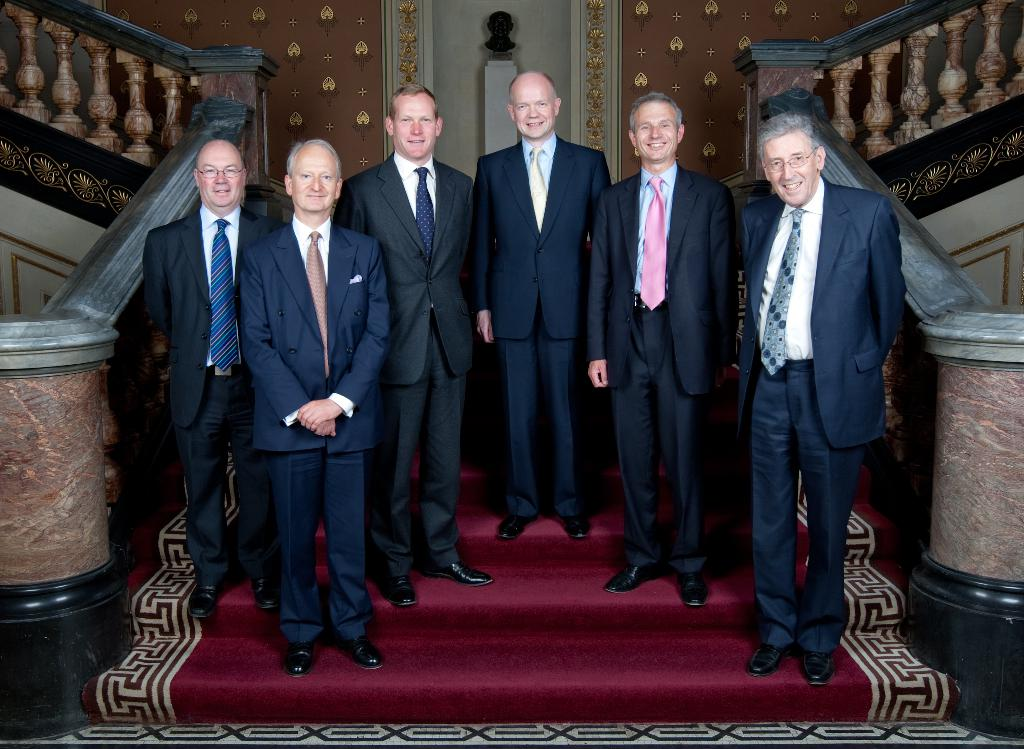Footwear: (367, 563, 420, 617), (420, 551, 493, 587), (318, 633, 385, 669), (604, 558, 661, 600), (180, 579, 224, 621), (745, 639, 788, 679), (796, 642, 833, 688), (280, 638, 321, 679), (676, 564, 712, 608), (497, 504, 536, 541), (250, 567, 278, 616), (564, 511, 602, 543)
